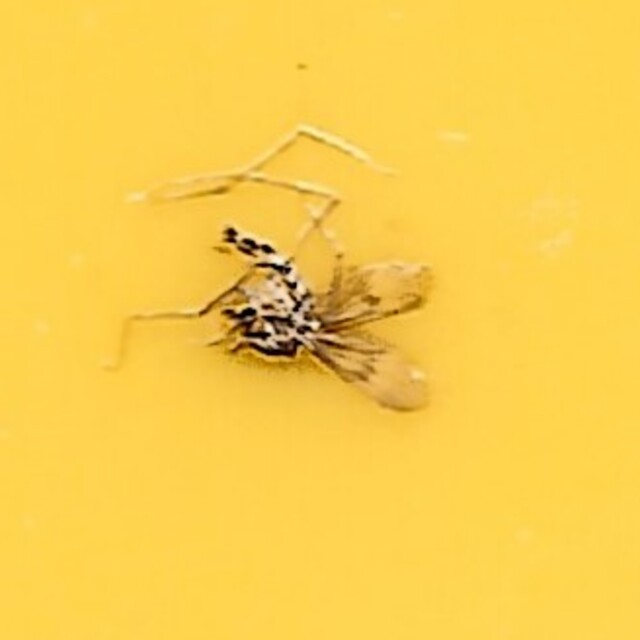Nematocera: (195, 209, 445, 431)
